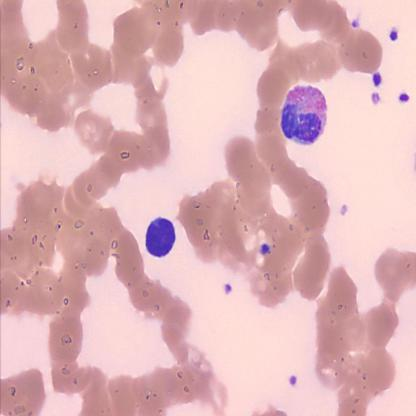Eosinophil: (282, 84, 326, 146)
